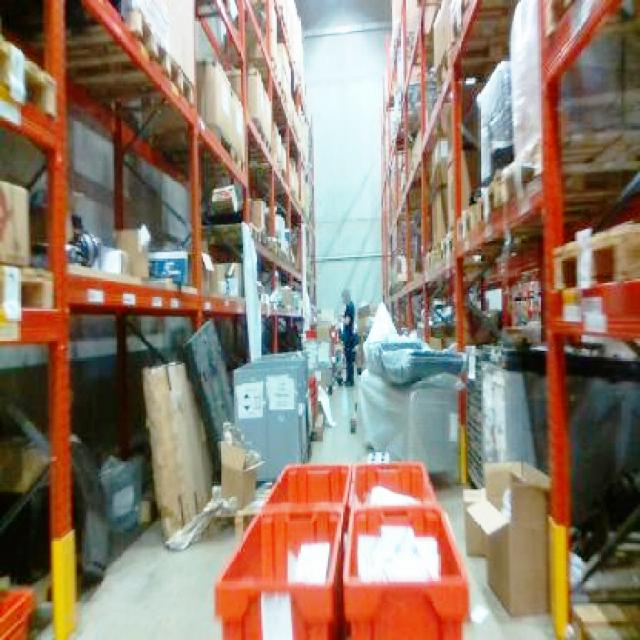ground: (0, 323, 638, 638)
pallet: (377, 0, 638, 638), (212, 458, 471, 638), (212, 503, 345, 638), (340, 502, 469, 638), (462, 458, 552, 617), (140, 358, 214, 543)
